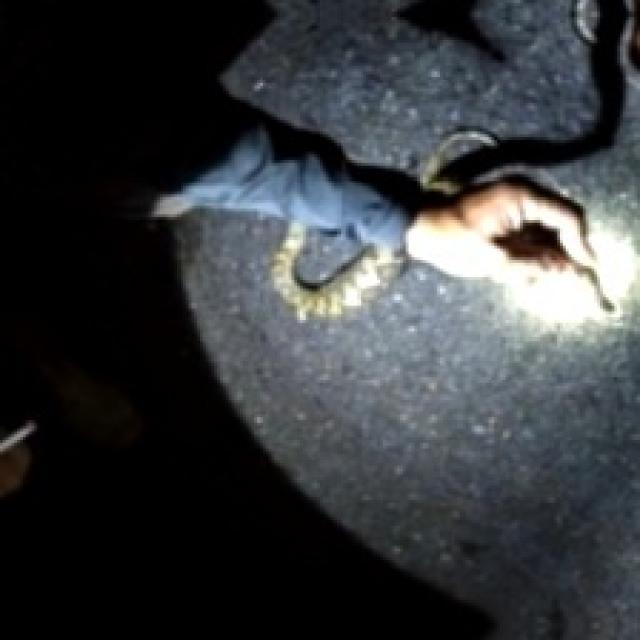reticulated python: (270, 221, 406, 321), (421, 132, 497, 194)
